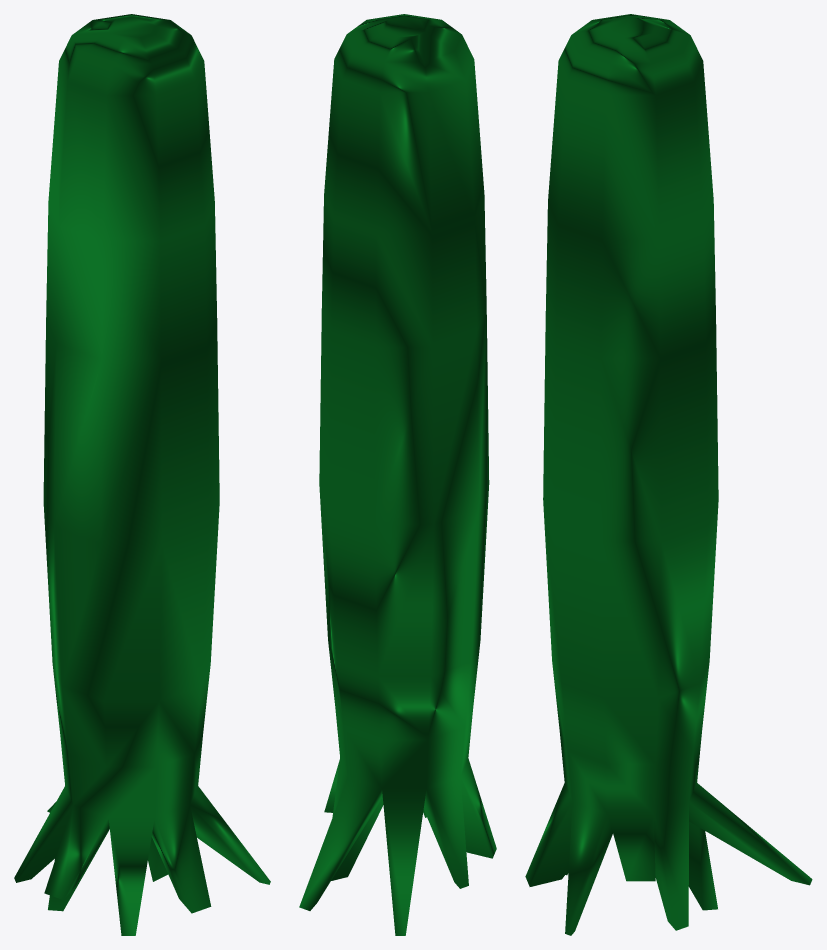
Rendered from SeguaroCactusMedium2_LOD0.obj.
The picture shows the model from 3 angles, left to right: view 1: azimuth 30°, elevation 25°; view 2: azimuth 150°, elevation 25°; view 3: azimuth 270°, elevation 25°; orthographic projection. The views are drawn at different scales.
Parts seen in each view (by area): view 1: SeguaroCactusMedium2_LOD0; view 2: SeguaroCactusMedium2_LOD0; view 3: SeguaroCactusMedium2_LOD0.
Part boxes in pixels (x1=…): SeguaroCactusMedium2_LOD0: x1=14, y1=14, x2=270, y2=935; SeguaroCactusMedium2_LOD0: x1=299, y1=14, x2=496, y2=935; SeguaroCactusMedium2_LOD0: x1=525, y1=14, x2=812, y2=935.
Bounding box in the file's own units: 71 × 305 × 88.4.
